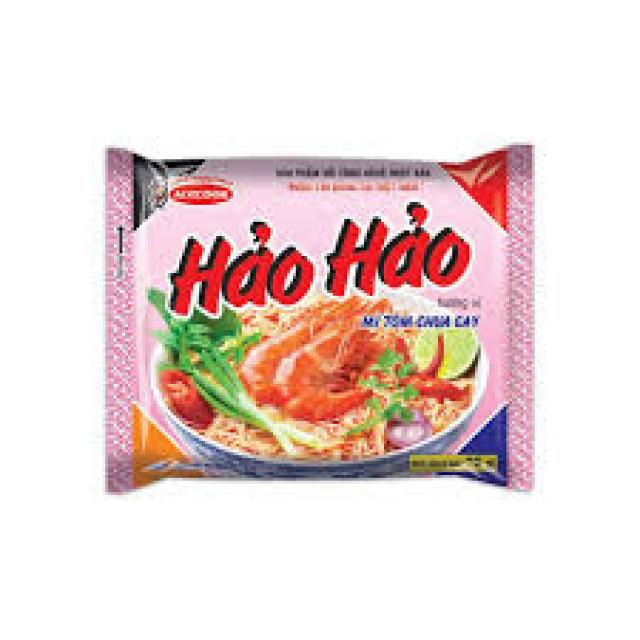mi hao hao: (78, 114, 552, 541)
